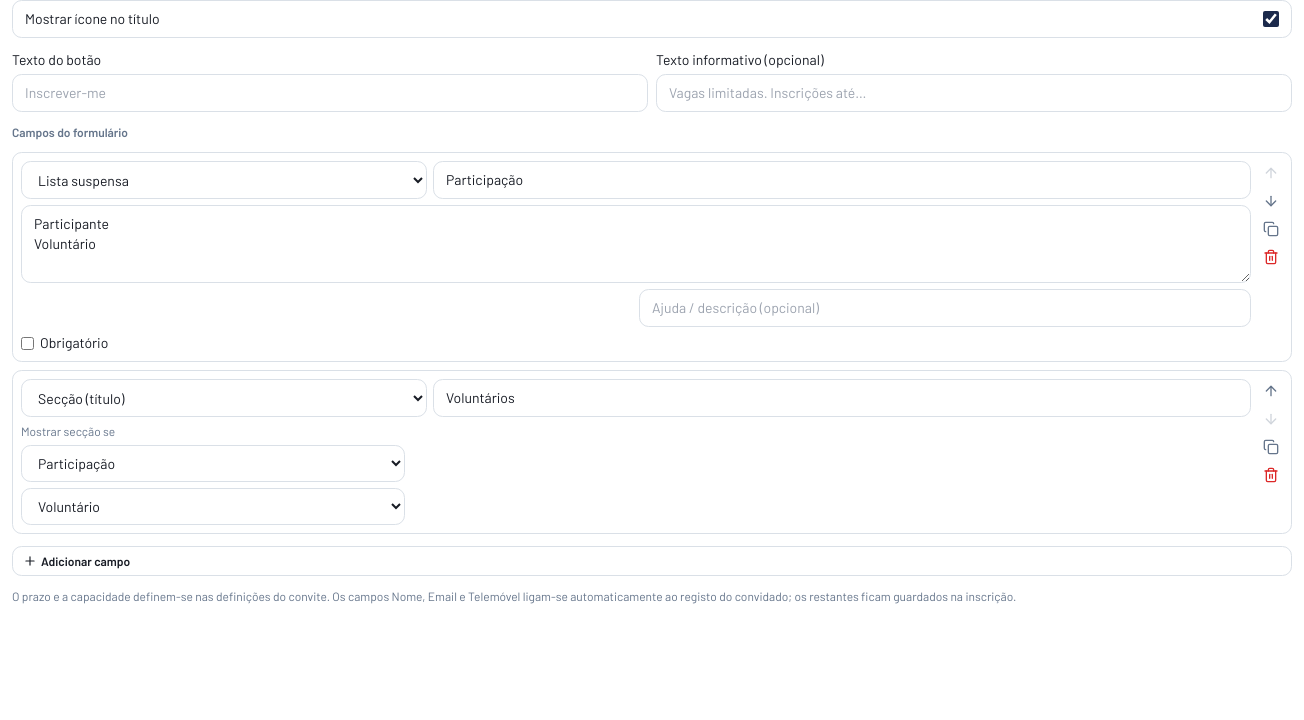
Scenario: InviteBlockEditors uploads › keeps a conditional section aligned when its dropdown option is renamed
This screenshot has width=1304, height=720.
Click the text box with placeholder "Uma opção por linha". click: (636, 244)
box: [21, 205, 1251, 283]
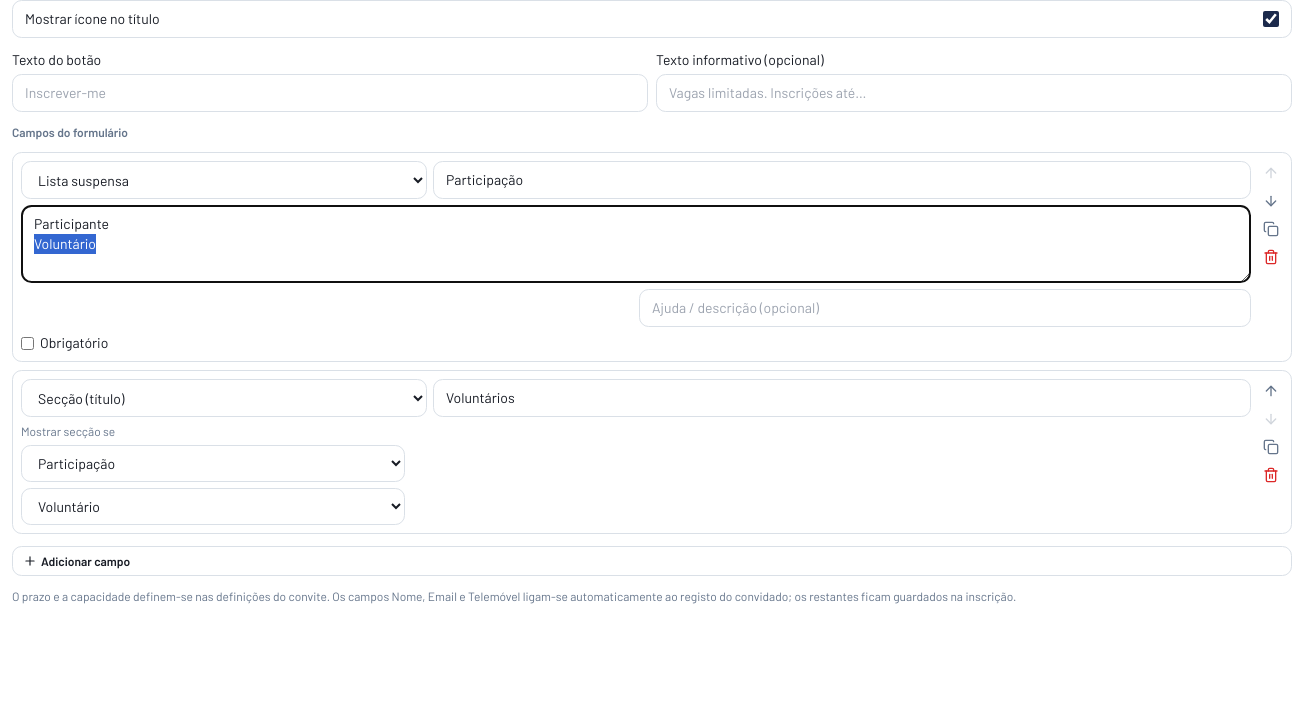
Type keys "Equipa"
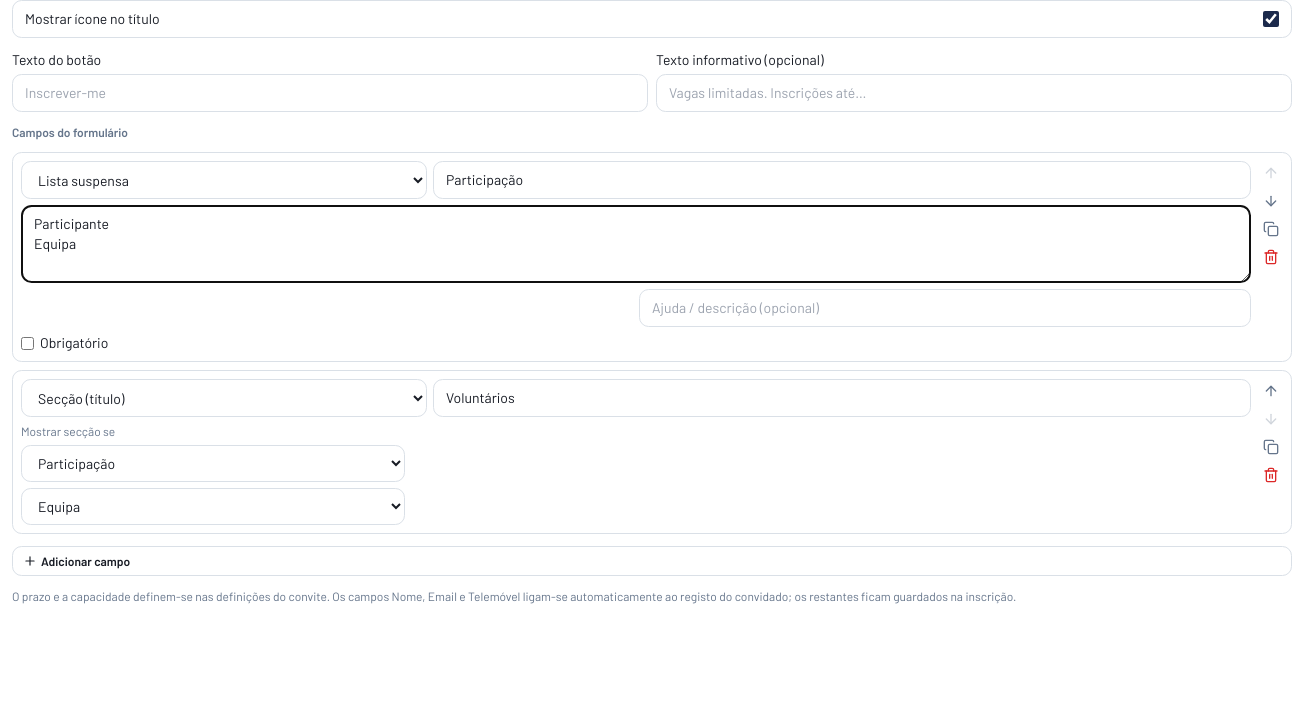
Expected: the 2nd dropdown showing "Equipa" is shown, [21, 488, 405, 525]
